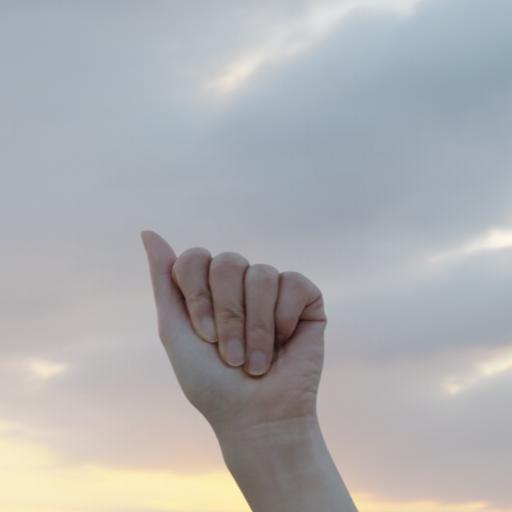A: (138, 226, 333, 438)
